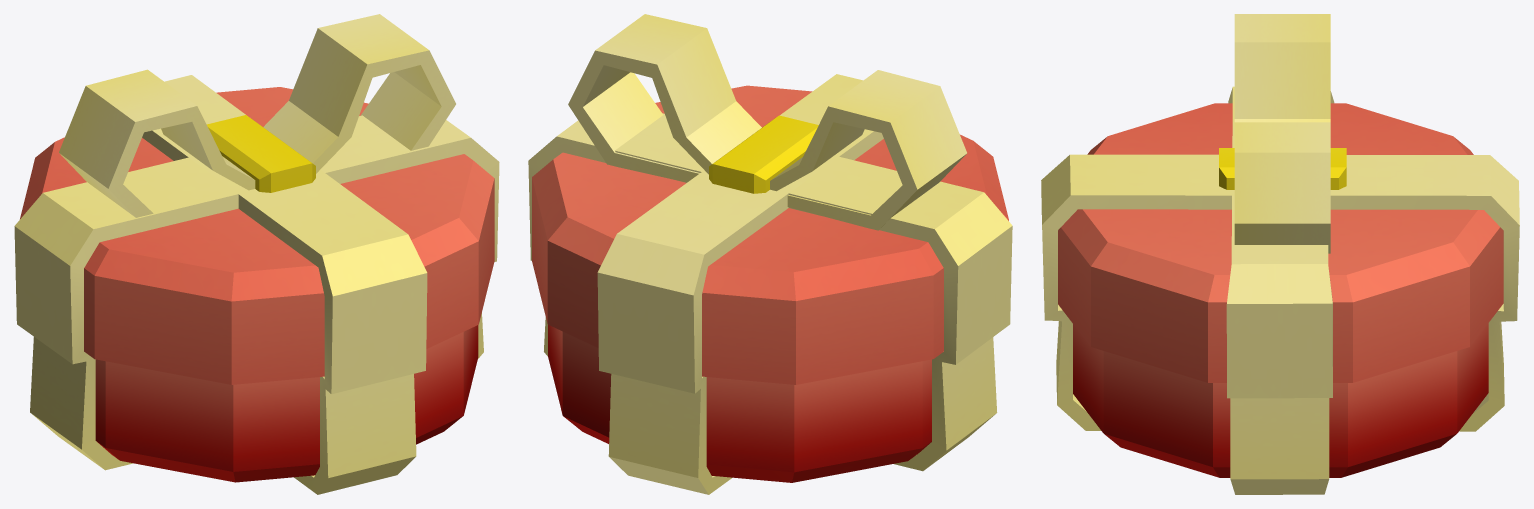
The picture shows the model from 3 angles, left to right: view 1: azimuth 30°, elevation 25°; view 2: azimuth 150°, elevation 25°; view 3: azimuth 270°, elevation 25°; orthographic projection. The views are drawn at different scales.
Visible parts, largest first — view 1: smMAT0110020; view 2: smMAT0110020; view 3: smMAT0110020.
Boxes of the visible parts, left/top/right/bottom form: smMAT0110020: left=14, top=14, right=499, bottom=494; smMAT0110020: left=528, top=14, right=1012, bottom=494; smMAT0110020: left=1041, top=14, right=1519, bottom=494.
Size of the model in its own units: 59.75 by 45.58 by 59.75.
Materials: 1 (1 with a texture image).
